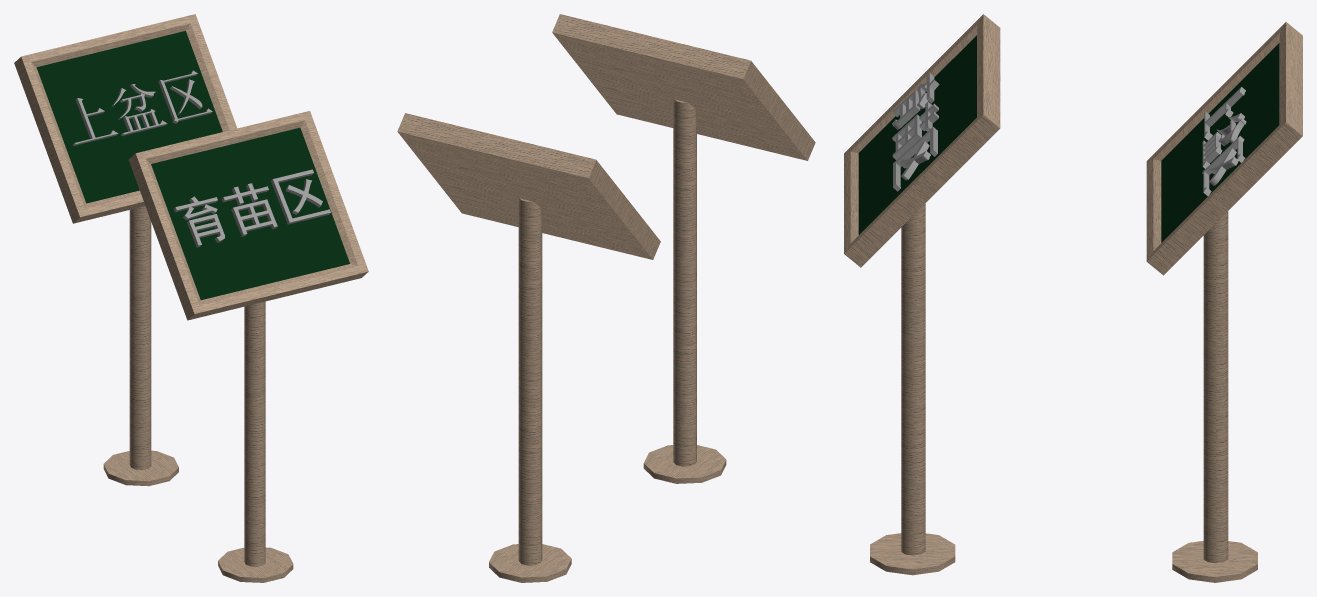
File: shangpen--.FBX
3 renders of one model, left to right at view 1: azimuth 30°, elevation 25°; view 2: azimuth 150°, elevation 25°; view 3: azimuth 270°, elevation 25°, orthographic. The views are drawn at different scales.
Visible parts, largest first — view 1: 009, 014; view 2: 014, 009; view 3: 014, 009.
Part boxes in pixels (bbox=[...]): 009: bbox=[129, 111, 368, 582]; 014: bbox=[14, 14, 237, 486]; 014: bbox=[397, 113, 660, 582]; 009: bbox=[552, 14, 815, 483]; 014: bbox=[1146, 22, 1302, 582]; 009: bbox=[844, 14, 1000, 575].
Bounding box in the file's own units: 14.78 × 31.17 × 26.44.
Materials: 3 (1 with a texture image).
